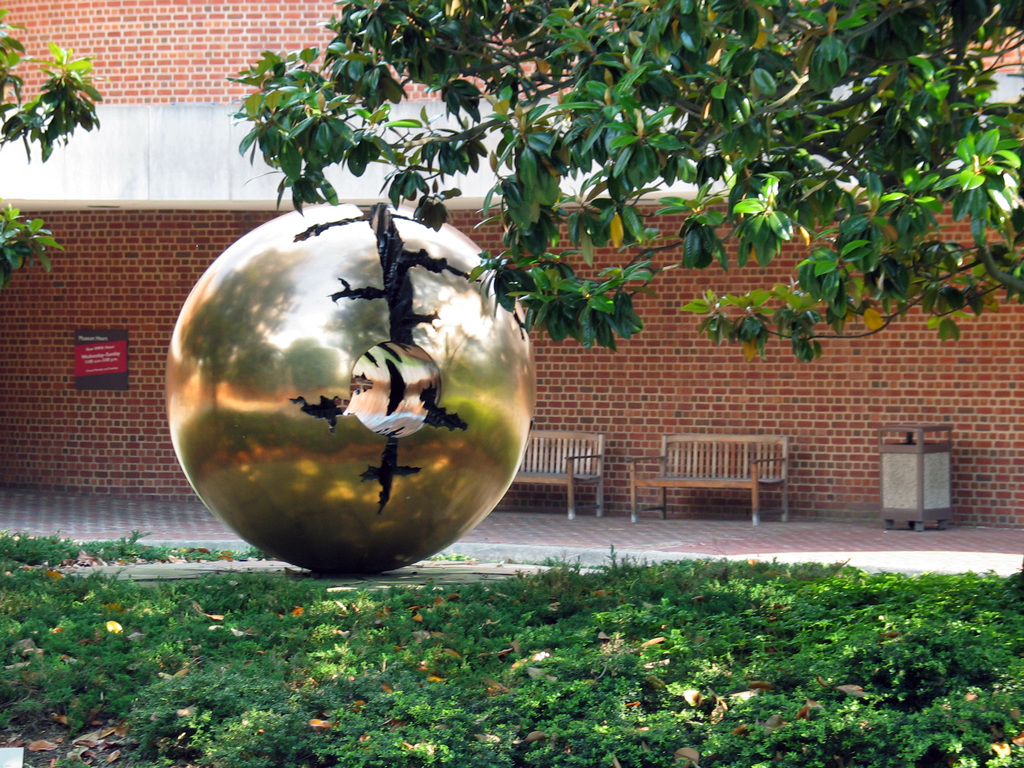Ball: (171, 199, 536, 577)
